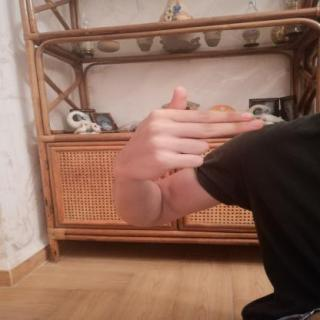GHAYN: (101, 79, 275, 191)
